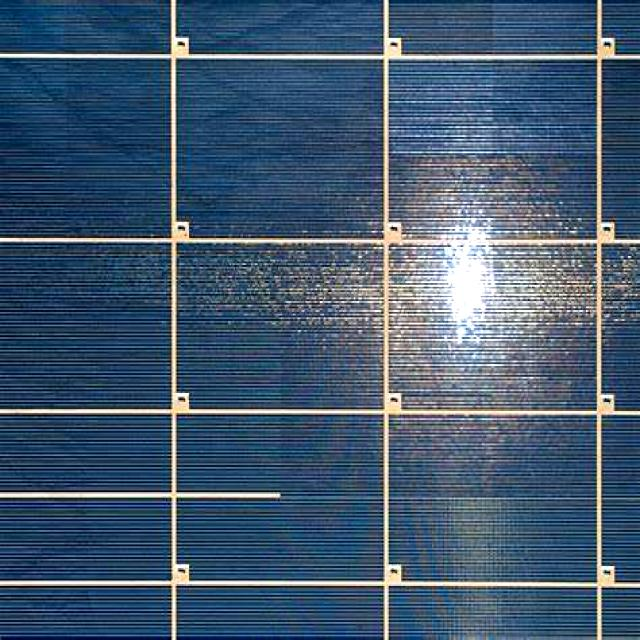shadow: (378, 156, 598, 420), (99, 233, 370, 338), (609, 245, 640, 342)
